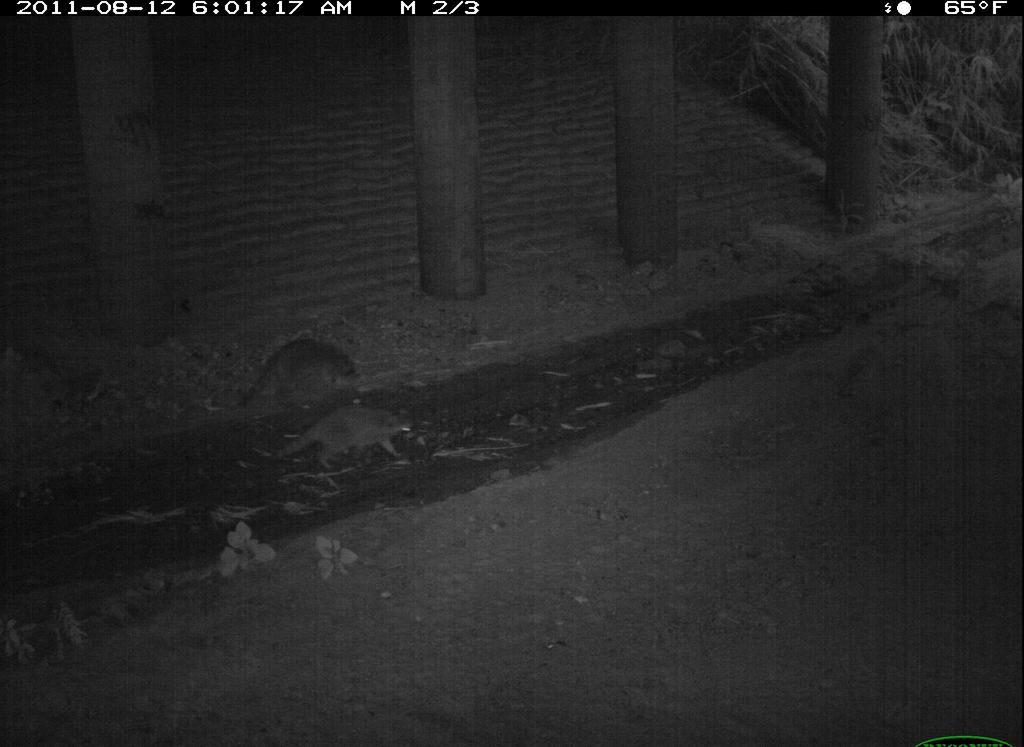raccoon: (484, 669, 733, 747)
